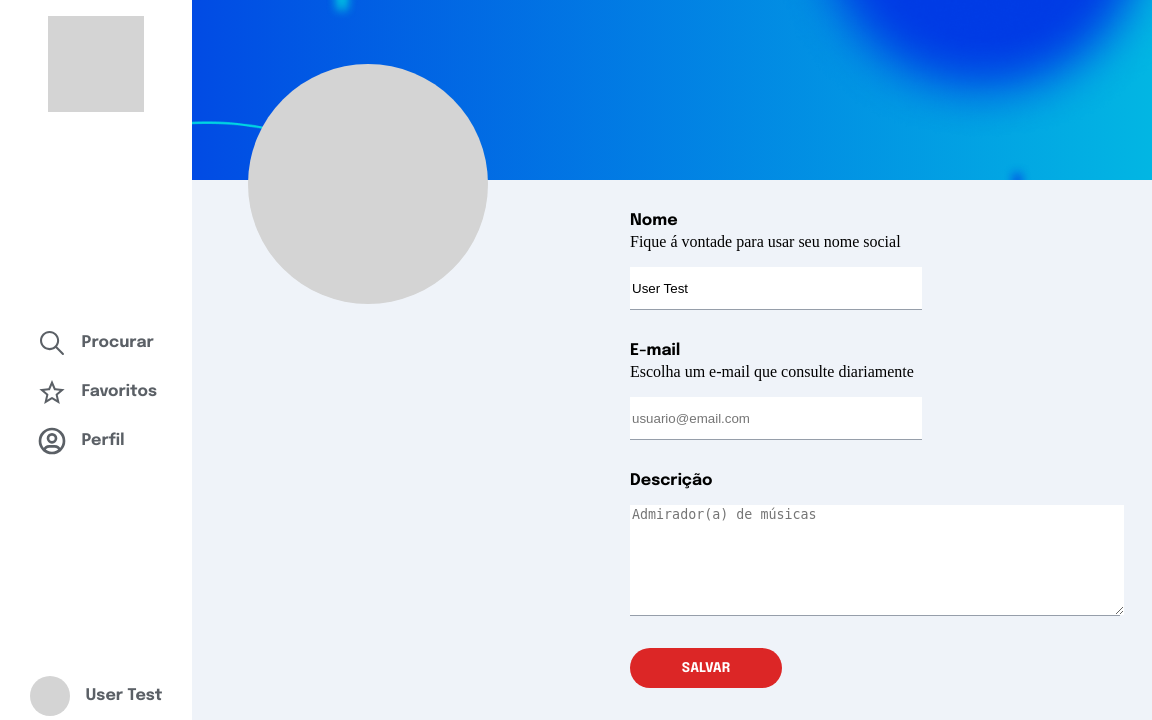
Test: Testando o formulário de edição de perfil › Testando se o botão salvar é habilitado somente se todos os campos estiverem válidos
The image size is (1152, 720).
Clear the field with test id "edit-input-name". click: (776, 288)
box: top-left (630, 267), bottom-right (922, 309)
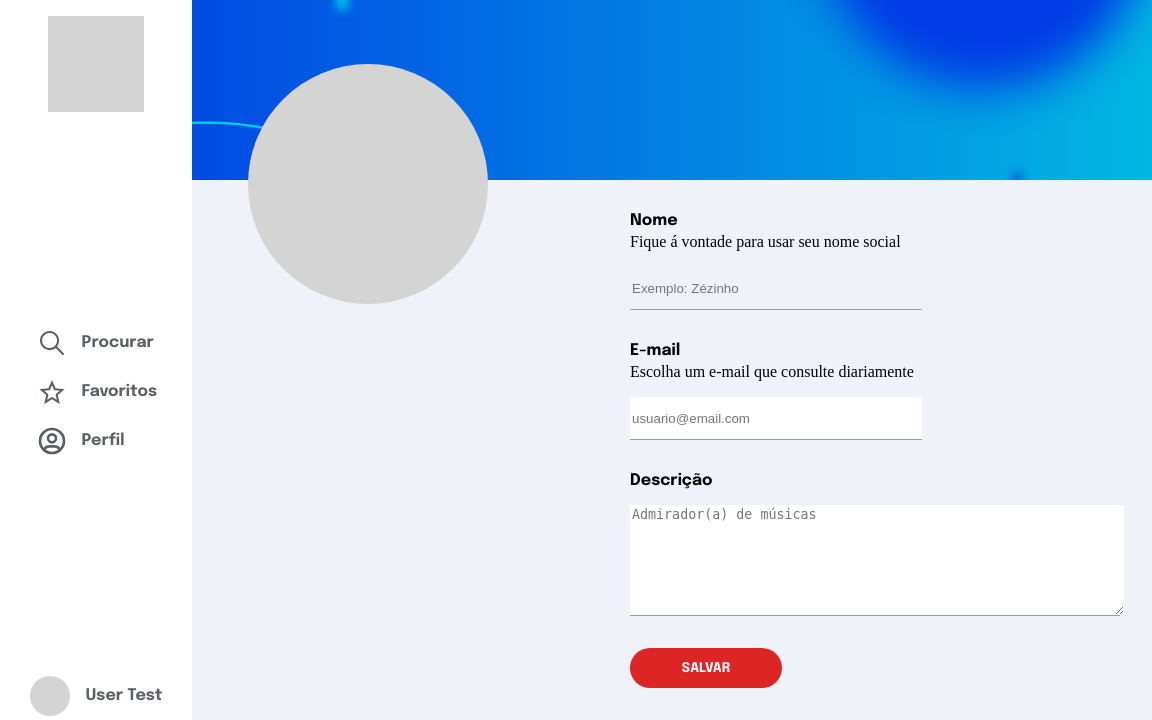
Type "not-an-email" into the field with test id "edit-input-email". click: (776, 418)
box: top-left (630, 397), bottom-right (922, 439)
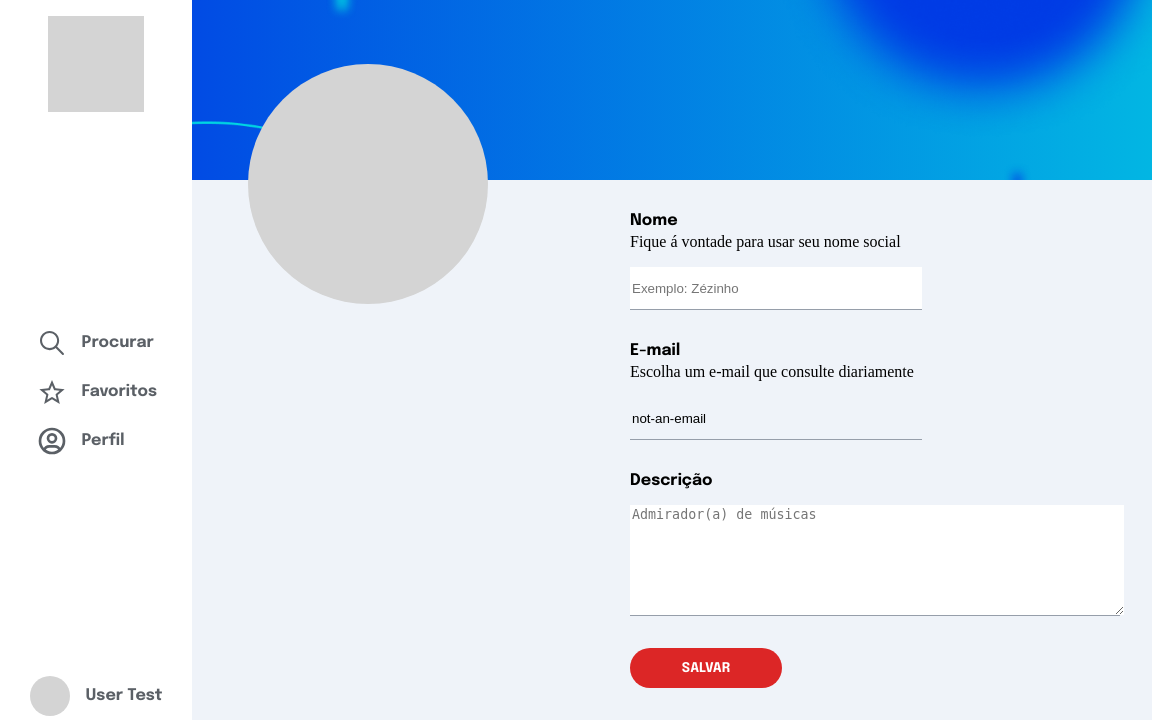
Clear the text box with test id "edit-input-description". click: (877, 560)
box: top-left (630, 505), bottom-right (1124, 615)
Expected: the button with test id "edit-button-save" is disabled, top-left (630, 648), bottom-right (782, 688)
Type "User test" into the field with test id "edit-input-name". click: (776, 288)
box: top-left (630, 267), bottom-right (922, 309)
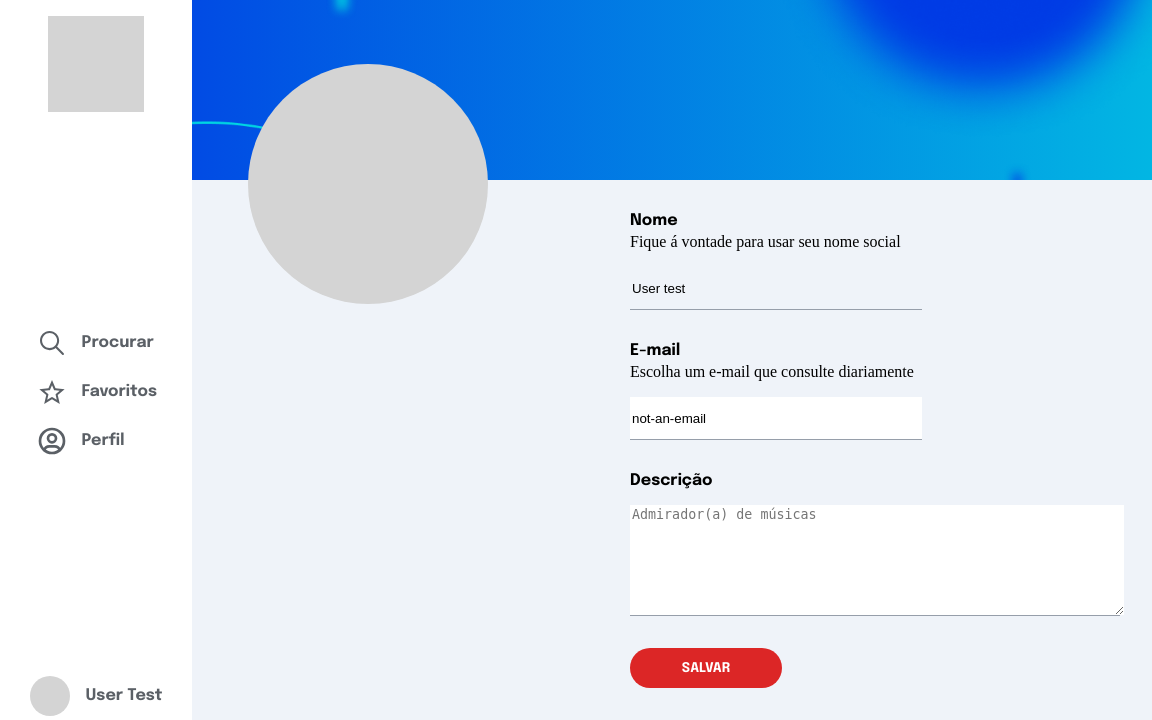
Replace the text in the field with test id "edit-input-email" with "valid@email.com". click: (776, 418)
box: top-left (630, 397), bottom-right (922, 439)
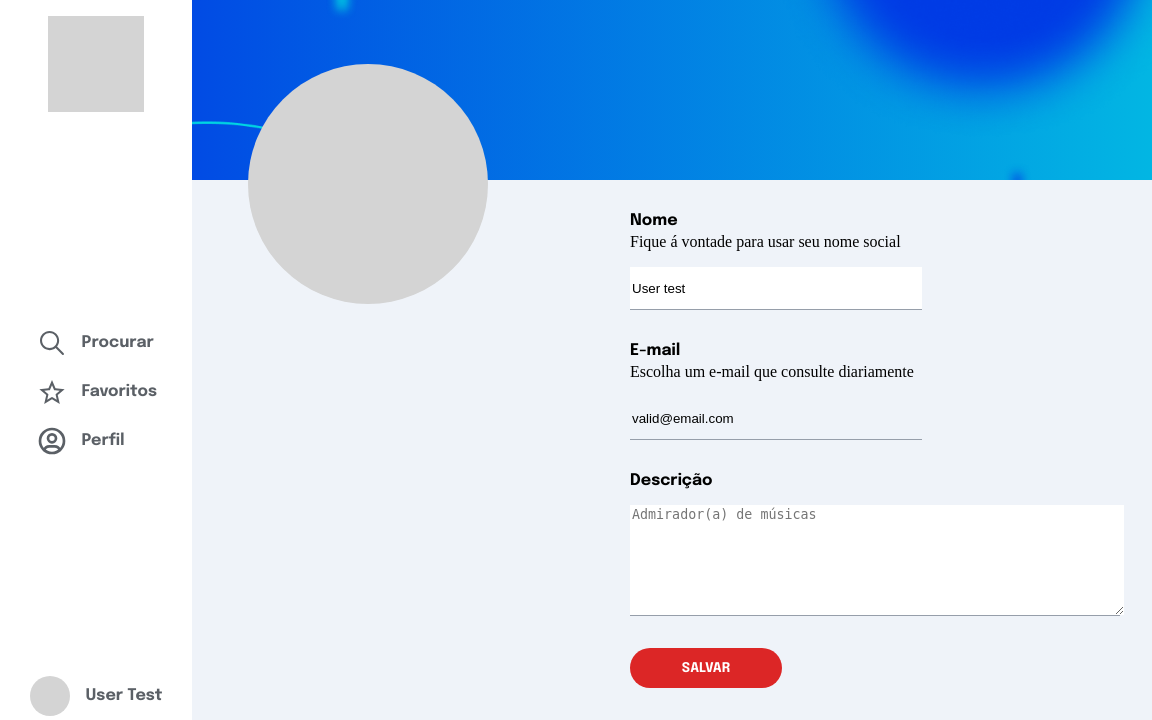
Type "User description" into the text box with test id "edit-input-description". click: (877, 560)
box: top-left (630, 505), bottom-right (1124, 615)
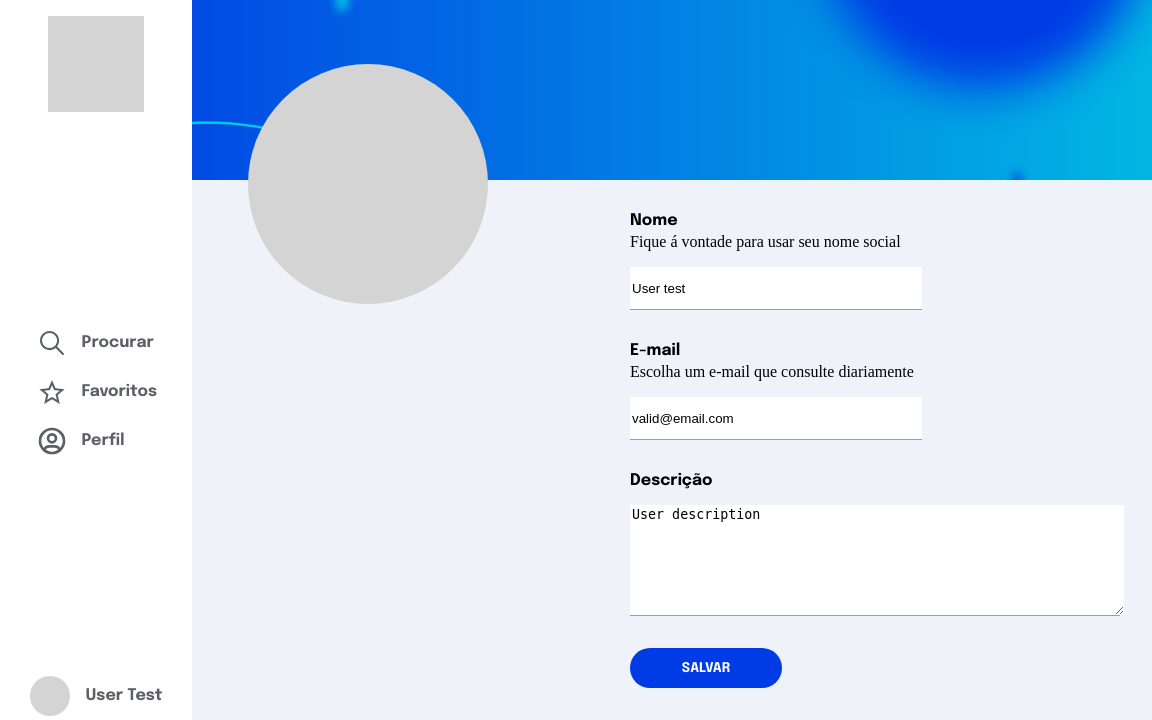
Result: the button with test id "edit-button-save" is enabled at top-left (630, 648), bottom-right (782, 688)
